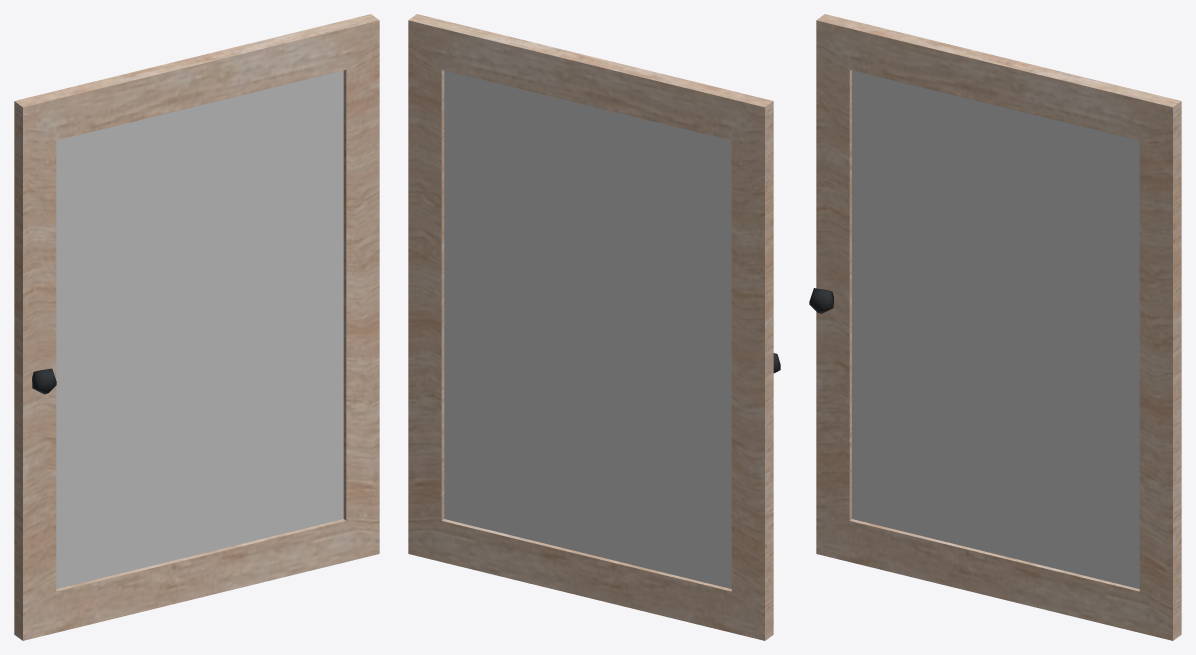
Rendered from Bathroom_cabinet_door.glb.
The picture shows the model from 3 angles, left to right: view 1: azimuth 30°, elevation 25°; view 2: azimuth 150°, elevation 25°; view 3: azimuth 330°, elevation 25°; orthographic projection.
Parts seen in each view (by area): view 1: Bathroom_cabinet_door; view 2: Bathroom_cabinet_door; view 3: Bathroom_cabinet_door.
Boxes of the visible parts, x1,y1,x2,y2 form: Bathroom_cabinet_door: (14,14,379,640); Bathroom_cabinet_door: (408,14,780,640); Bathroom_cabinet_door: (809,14,1181,640).
Size of the model in its own units: 0.3534 by 0.5049 by 0.0361.
3 materials, 2 textured.
